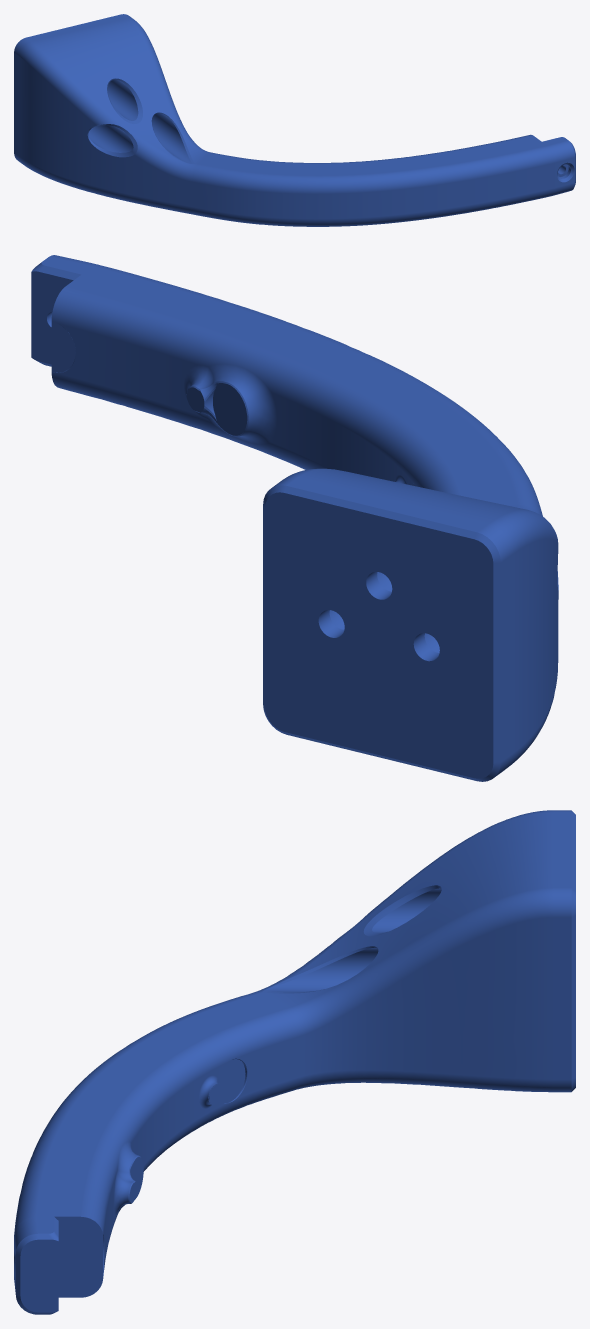
The model's file is Gantry_Arm_-_Gantry_Piece_1.glb.
3 renders of one model, top to bottom at view 1: azimuth 30°, elevation 25°; view 2: azimuth 150°, elevation 25°; view 3: azimuth 270°, elevation 25°, orthographic. The views are drawn at different scales.
Visible parts, largest first — view 1: Gantry Piece 1; view 2: Gantry Piece 1; view 3: Gantry Piece 1.
Boxes of the visible parts, x1=… form: Gantry Piece 1: x1=14, y1=14, x2=575, y2=226; Gantry Piece 1: x1=31, y1=255, x2=558, y2=781; Gantry Piece 1: x1=14, y1=810, x2=575, y2=1314.
Size of the model in its own units: 0.165 by 0.05 by 0.1259.
